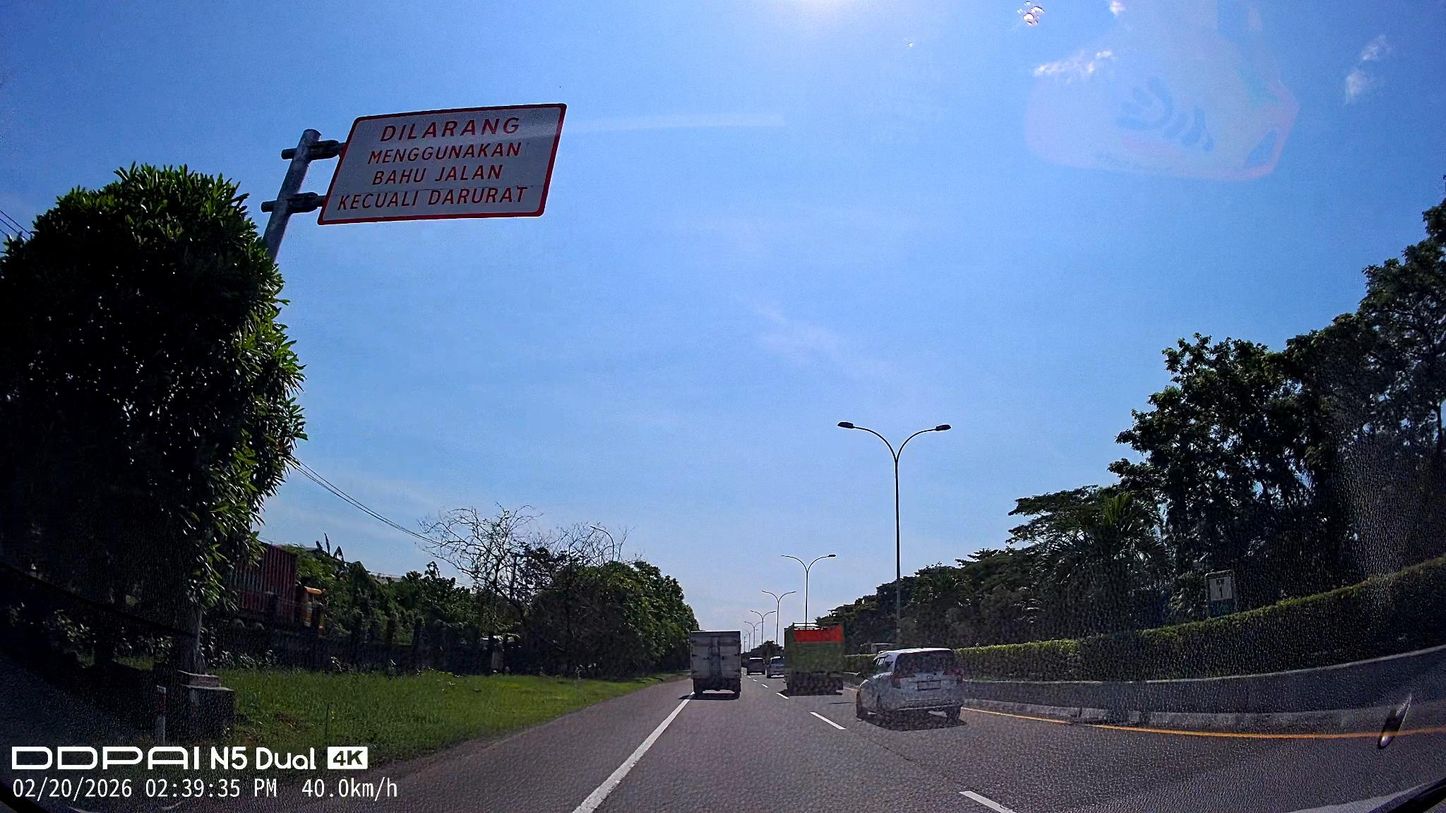rambu_teks: (316, 101, 568, 227)
